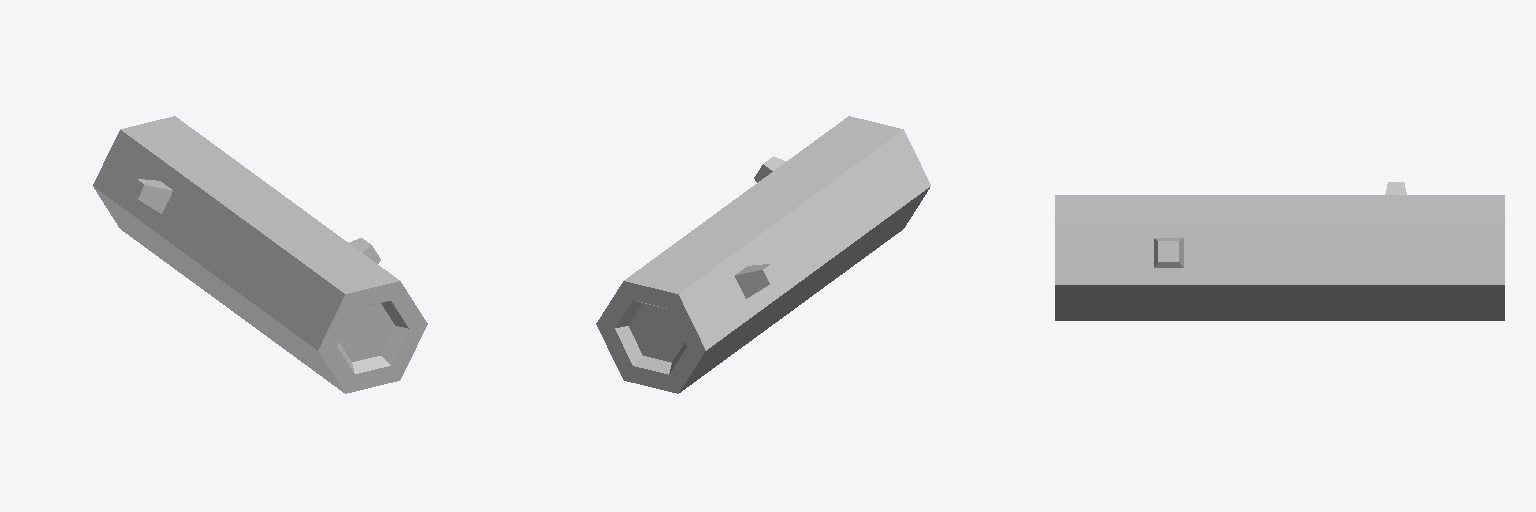
The model's file is log_small.obj.
3 renders of one model, left to right at view 1: azimuth 30°, elevation 25°; view 2: azimuth 150°, elevation 25°; view 3: azimuth 270°, elevation 25°, orthographic.
Parts seen in each view (by area): view 1: log_small; view 2: log_small; view 3: log_small.
Part boxes in pixels (x1,y1,x2,y2): log_small: (93, 116, 427, 393); log_small: (596, 116, 930, 393); log_small: (1055, 182, 1504, 320).
Bounding box in the file's own units: 2.34 × 1.73 × 7.1.